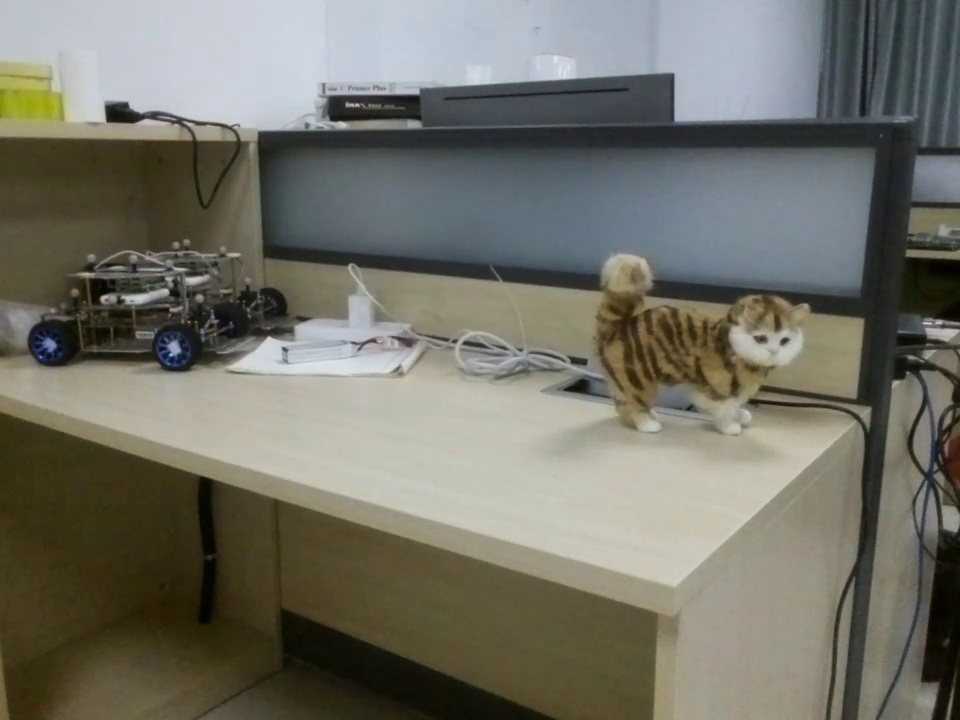cat: (583, 237, 830, 434)
